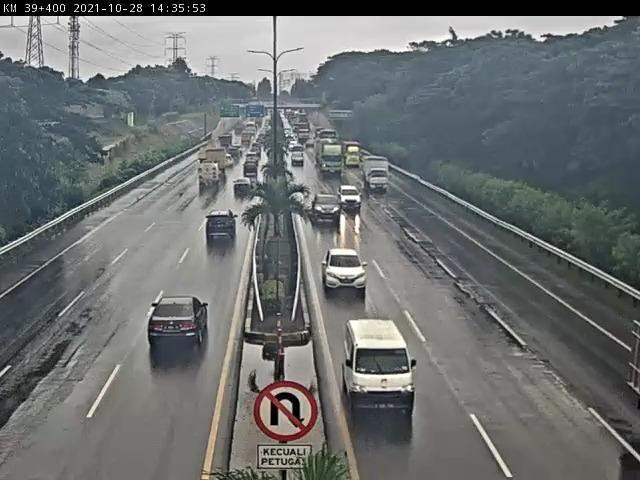car: (336, 313, 423, 418), (143, 293, 215, 357), (319, 244, 372, 295), (203, 208, 239, 247), (313, 188, 343, 230), (341, 176, 366, 215), (228, 174, 259, 201), (289, 151, 311, 173)
truck: (316, 142, 350, 184), (367, 156, 392, 199), (198, 162, 225, 193), (346, 139, 365, 172)
